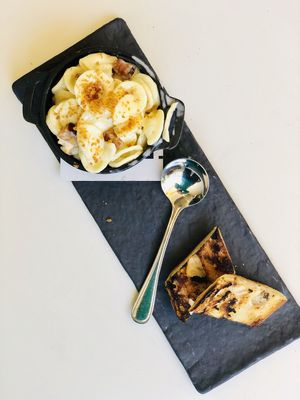salad: (130, 158, 209, 323)
